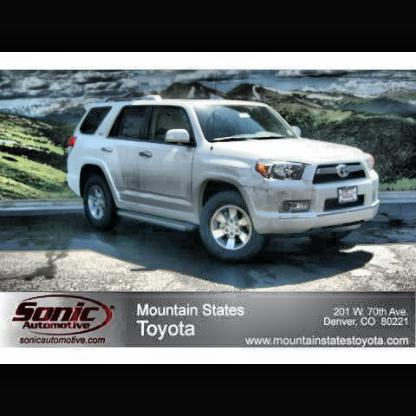Toyota 4Runner SUV 2012: (69, 96, 386, 257)
